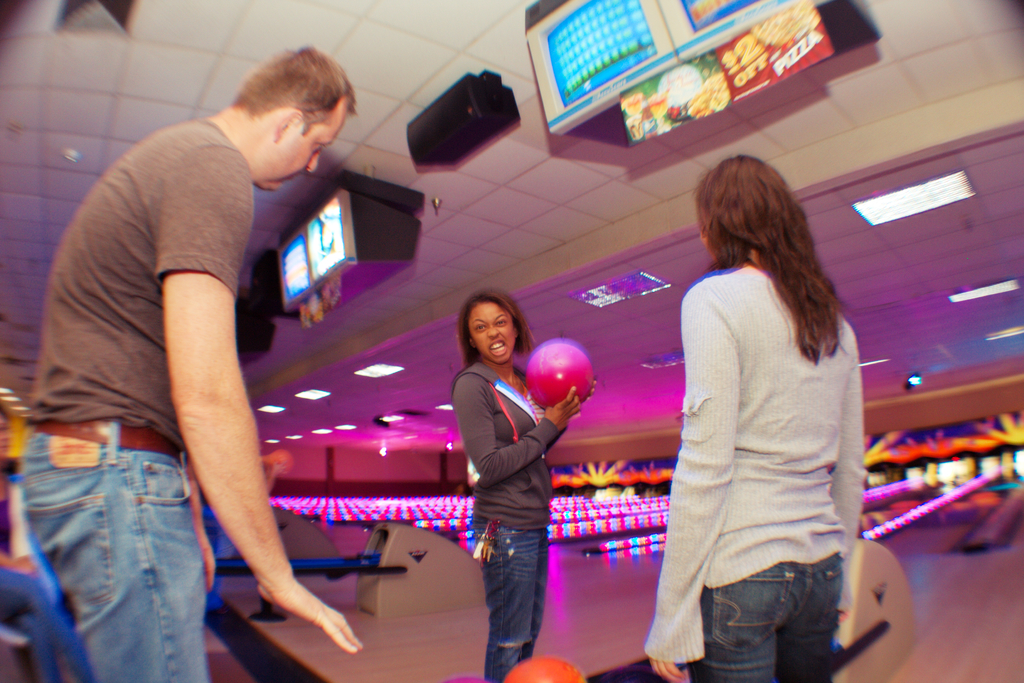Ball: (529, 343, 592, 412), (507, 657, 584, 682)
